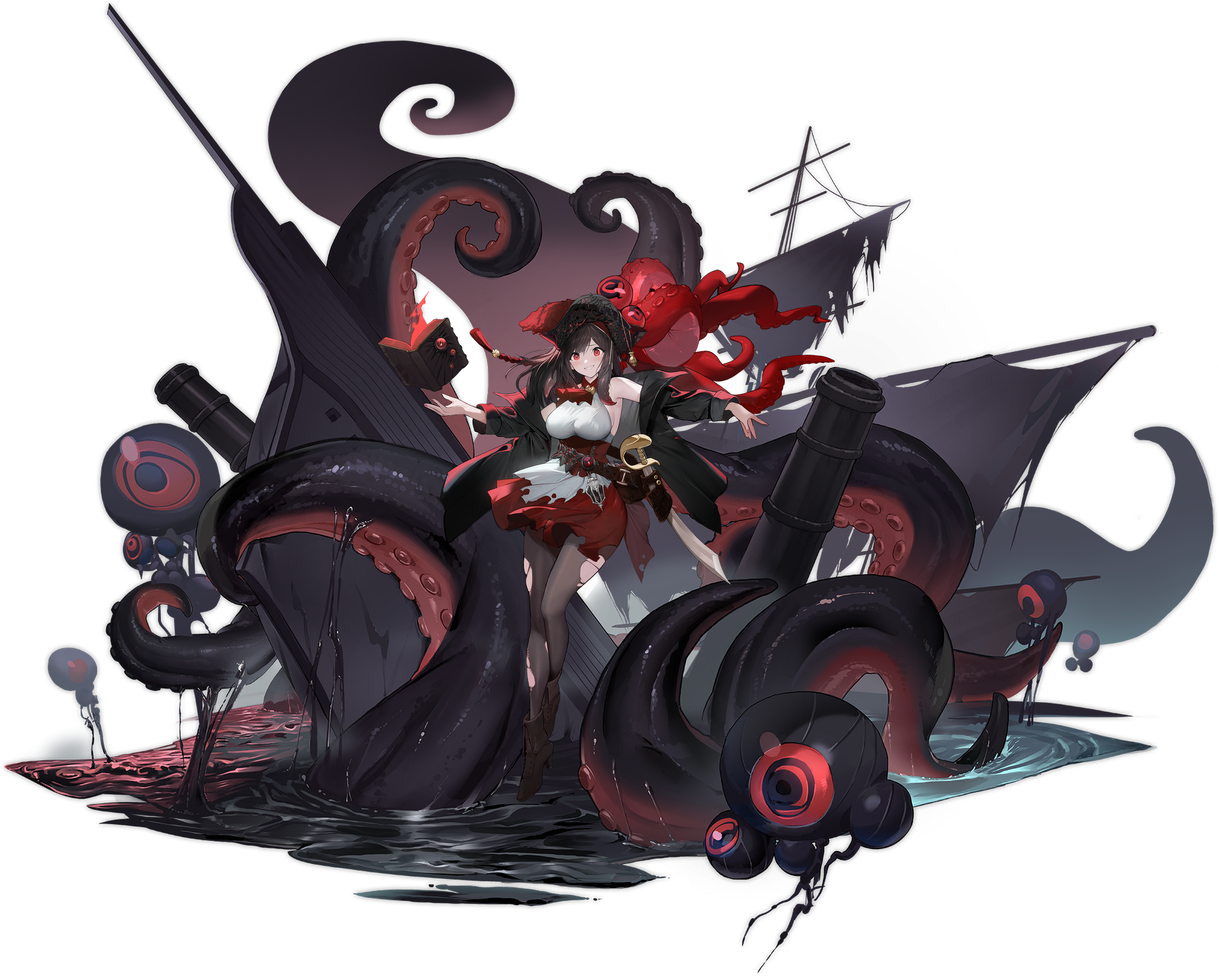person: (177, 277, 802, 871)
